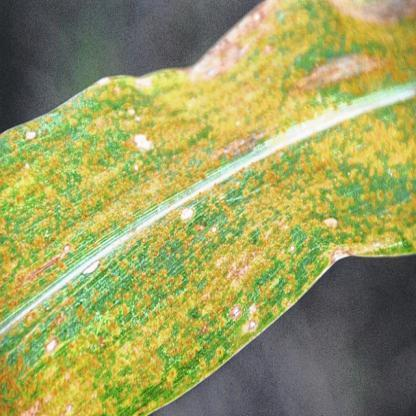Corn rust leaf: (2, 2, 415, 409)
